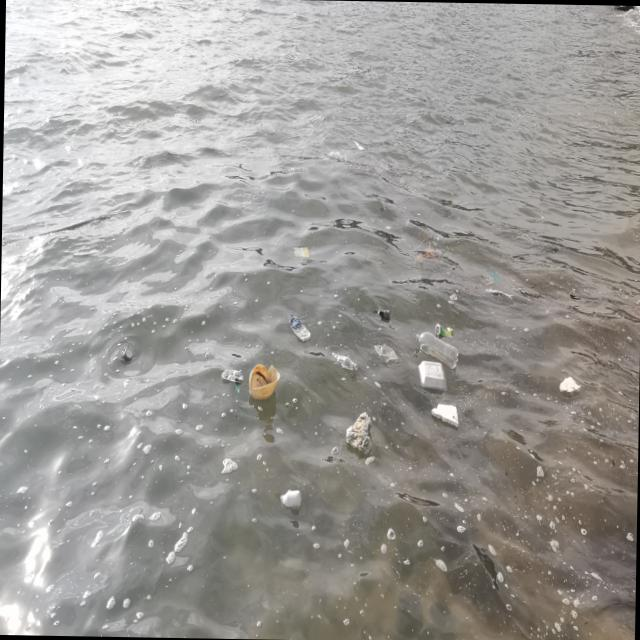can: (435, 323, 455, 341), (124, 348, 135, 362)
foam: (345, 411, 375, 457), (417, 362, 450, 394), (431, 403, 461, 430), (559, 376, 583, 396)
plastic bottle: (418, 331, 459, 371), (275, 485, 304, 510), (288, 315, 311, 345), (334, 354, 358, 376), (221, 369, 245, 387), (374, 309, 392, 322)
